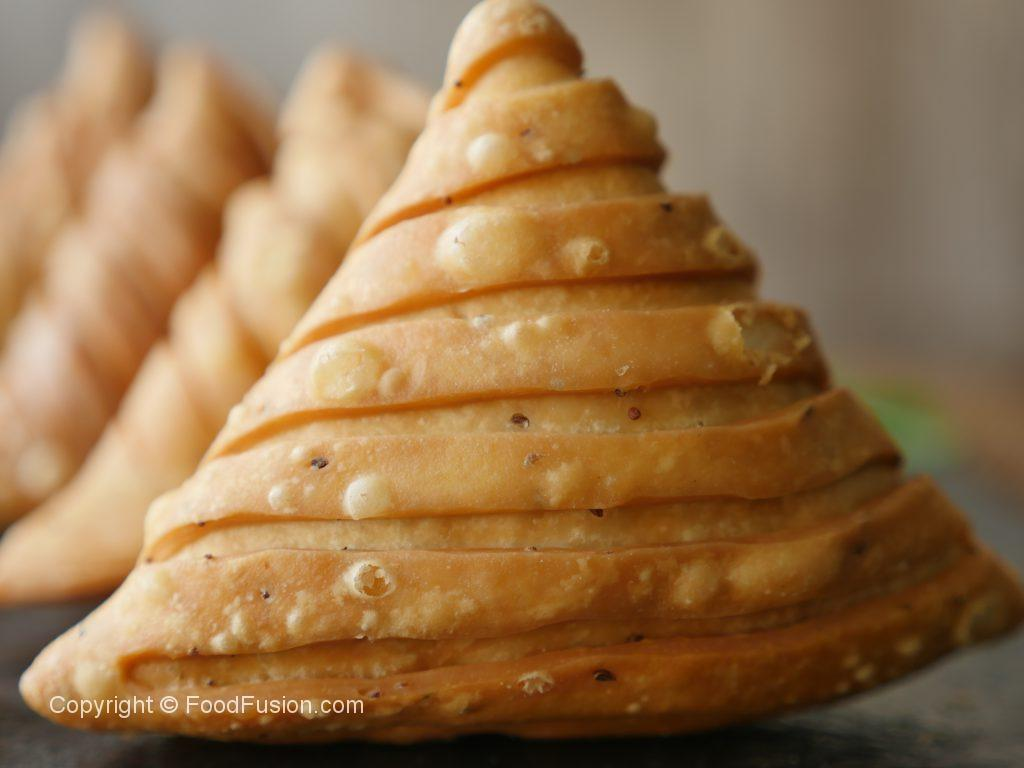samosa: (24, 4, 1024, 738)
